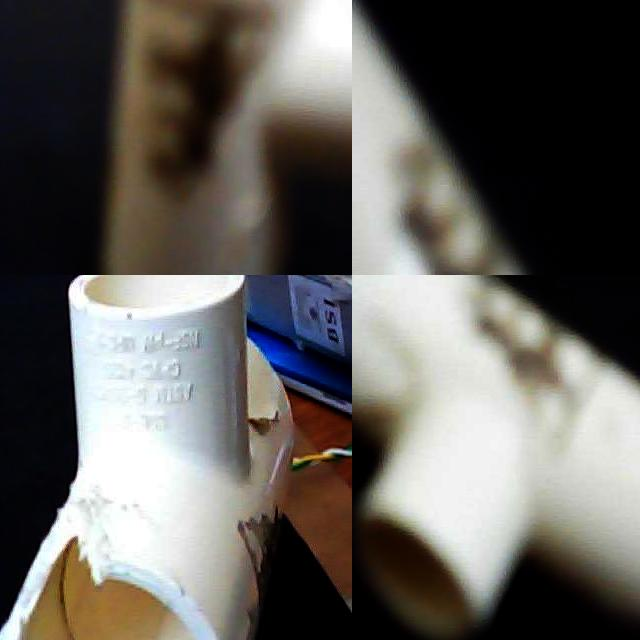Defective: (141, 0, 258, 199), (452, 308, 586, 440), (19, 499, 118, 640), (385, 180, 501, 275), (242, 498, 273, 634), (242, 388, 288, 448)
T Joint: (0, 275, 295, 640), (352, 275, 640, 640), (352, 0, 532, 275)
